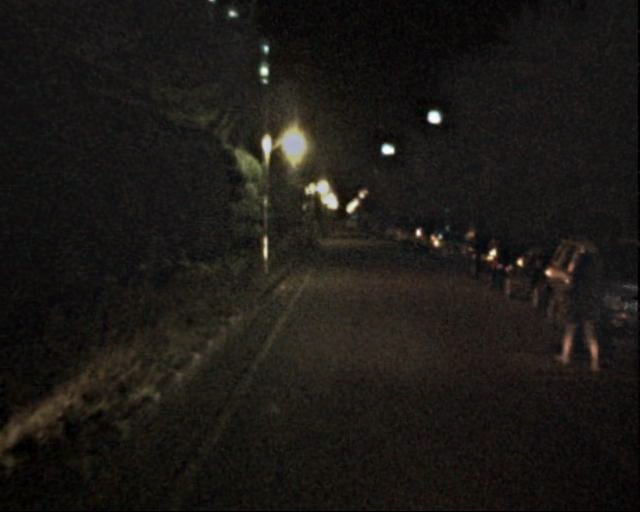person: (565, 232, 611, 345), (554, 259, 599, 369)
